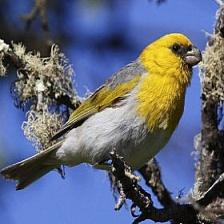bird: (2, 33, 201, 189)
